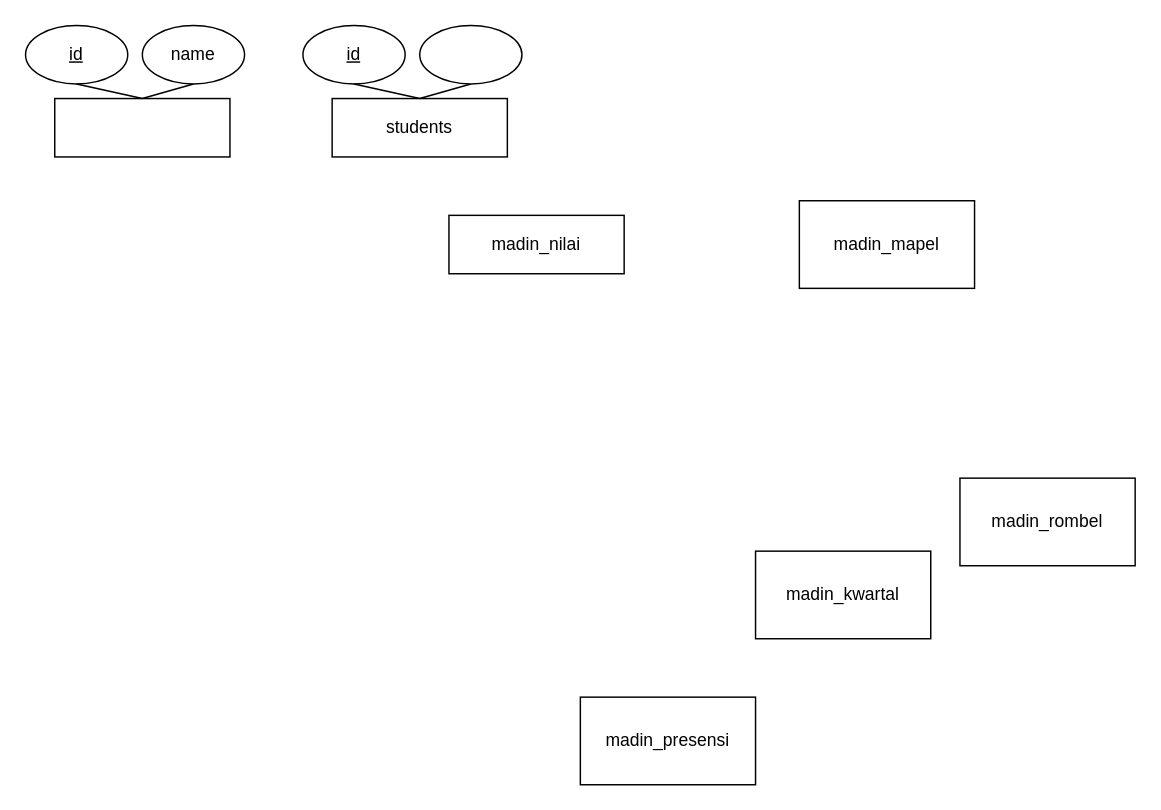
Image size: 1161x810. Some labels were removed from this diagram. The centre of each missing label's shape, as x and y in pixels:
"madin_institution" belongs at [141,127].
"nis" belongs at [470,54].
